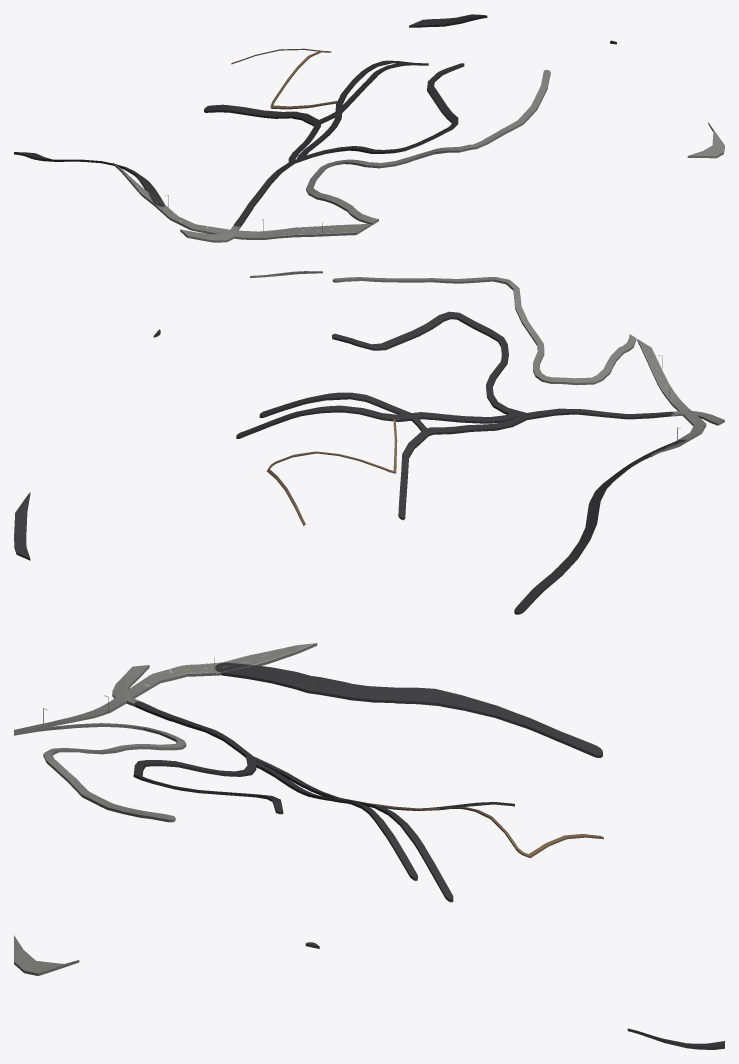
3 views of the same model, one above another, from view 1: azimuth 30°, elevation 25°; view 2: azimuth 150°, elevation 25°; view 3: azimuth 270°, elevation 25° (orthographic). The views are drawn at different scales.
Bounding box in the file's own units: 294 × 79.01 × 291.
